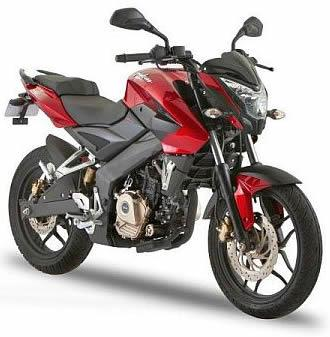motorbike: (4, 7, 321, 320)
